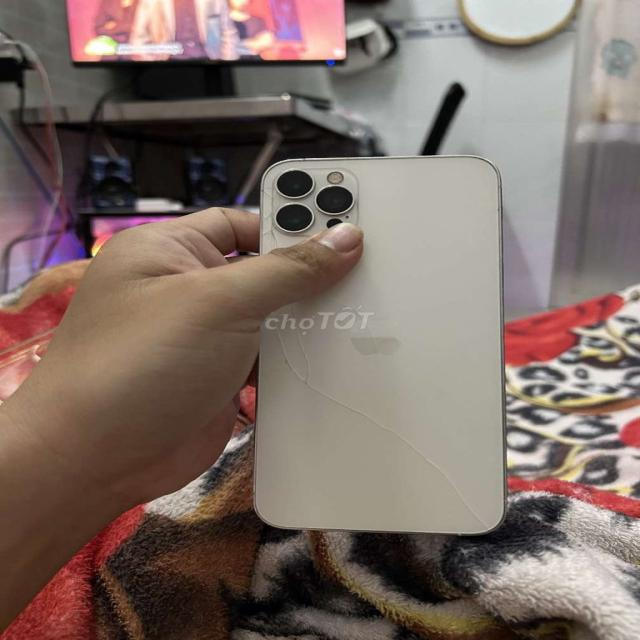physical_damage: (260, 163, 500, 530)
